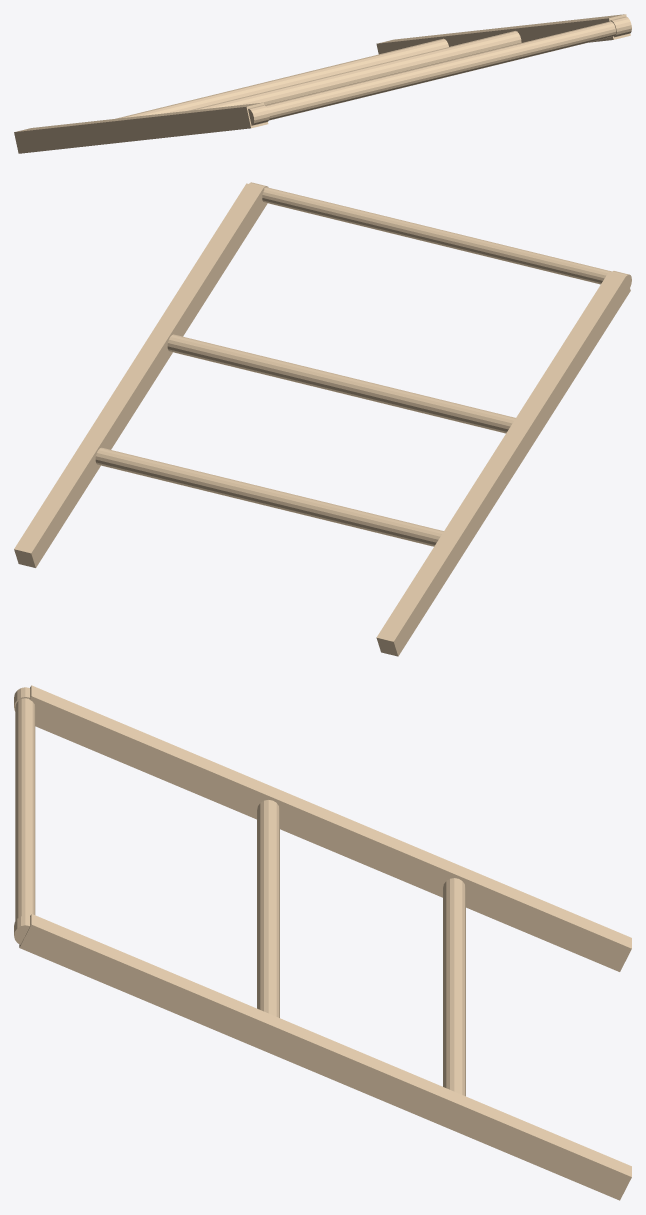
File: front_leg_frame.glb
3 renders of one model, top to bottom at view 1: azimuth 30°, elevation 25°; view 2: azimuth 150°, elevation 25°; view 3: azimuth 270°, elevation 25°, orthographic. The views are drawn at different scales.
Visible parts, largest first — view 1: front_leg_frame.001; view 2: front_leg_frame.001; view 3: front_leg_frame.001.
Boxes of the visible parts, box(x1,y1,x2,y2) form: front_leg_frame.001: box(14, 14, 631, 153); front_leg_frame.001: box(14, 182, 631, 656); front_leg_frame.001: box(14, 685, 631, 1200).
Size of the model in its own units: 0.396 by 0.2131 by 0.4322.
